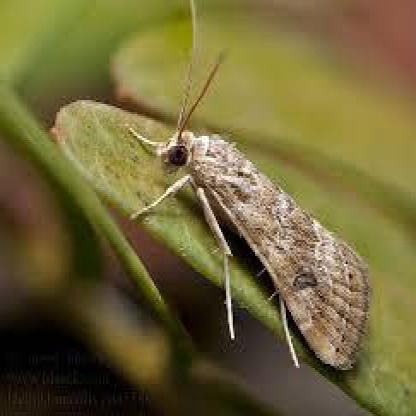Hellula undalis: (122, 4, 372, 365)
